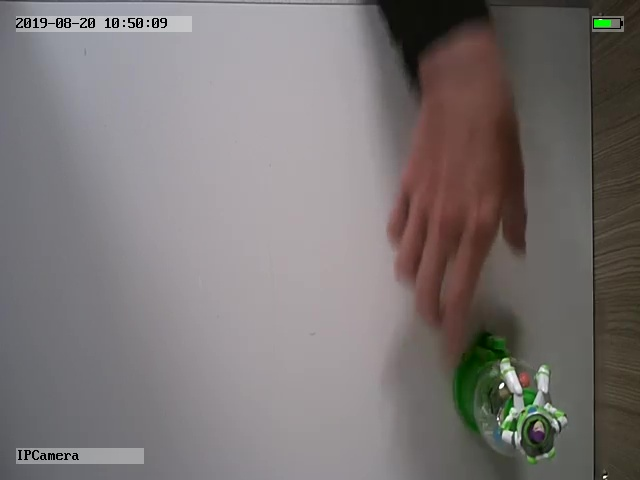buzz: (450, 329, 569, 465)
